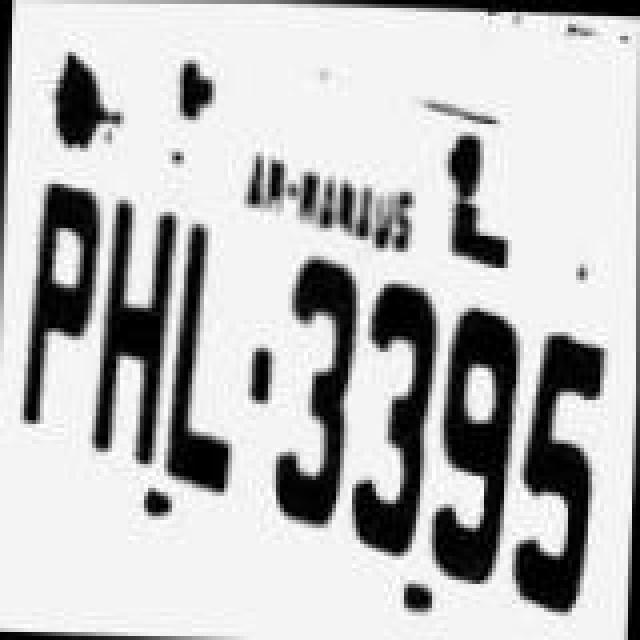3: (506, 312, 606, 632), (352, 258, 448, 558), (426, 290, 522, 590), (274, 236, 366, 544)
H: (88, 186, 180, 490)
L: (162, 198, 246, 502)
P: (14, 166, 102, 454)
